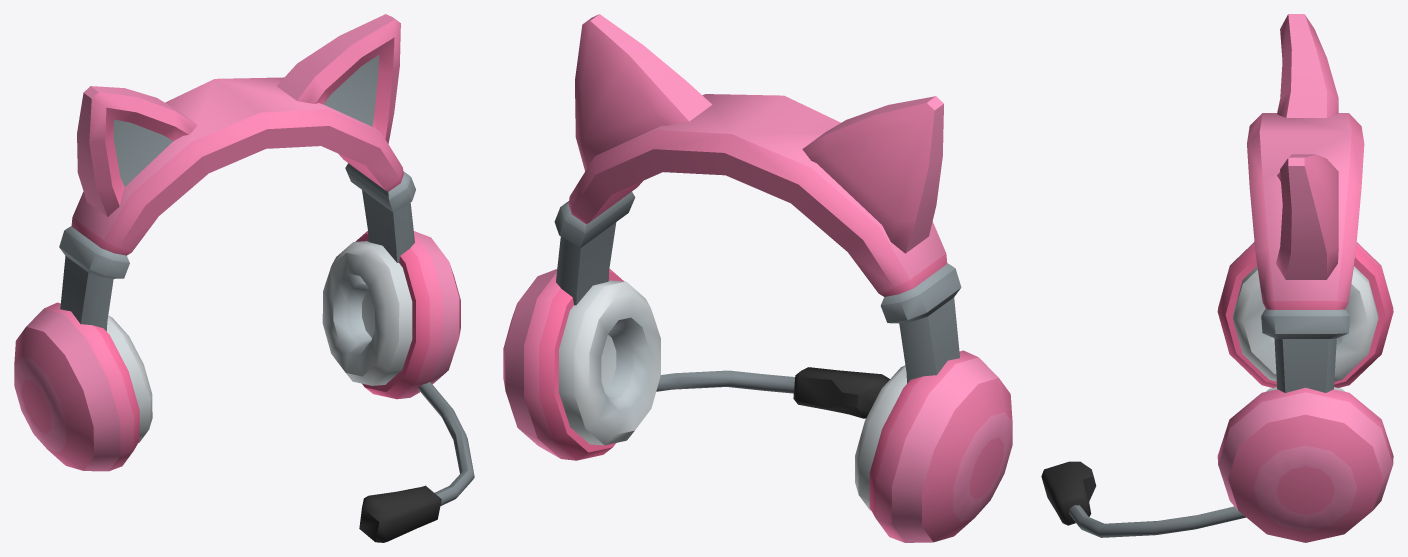
The model's file is cat_headphones_A.gltf.
The picture shows the model from 3 angles, left to right: view 1: azimuth 30°, elevation 25°; view 2: azimuth 150°, elevation 25°; view 3: azimuth 270°, elevation 25°; orthographic projection. The views are drawn at different scales.
Parts seen in each view (by area): view 1: cat_headphones_A; view 2: cat_headphones_A; view 3: cat_headphones_A.
Boxes of the visible parts, x1,y1,x2,y2 form: cat_headphones_A: [14, 14, 474, 542]; cat_headphones_A: [503, 14, 1012, 542]; cat_headphones_A: [1041, 14, 1393, 542].
Bounding box in the file's own units: 1.37 × 1.29 × 1.02.
Materials: 1 (1 with a texture image).
